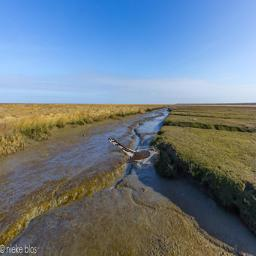Cuckoo: (108, 136, 160, 169)
